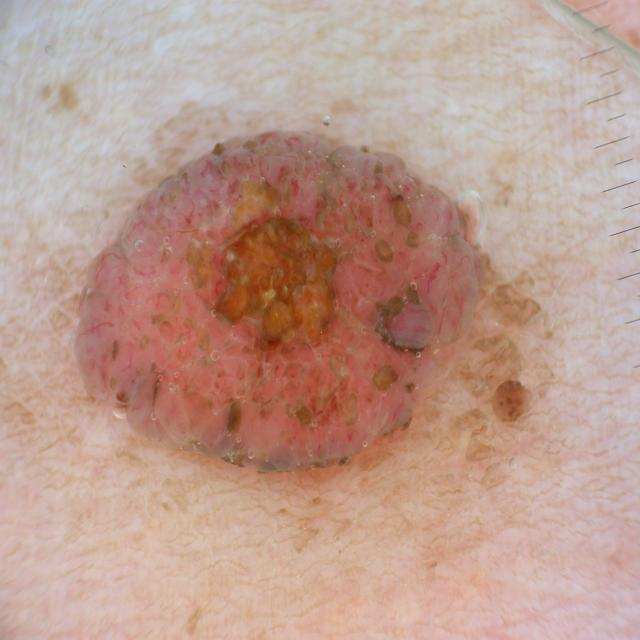Benign: (75, 126, 529, 474)
